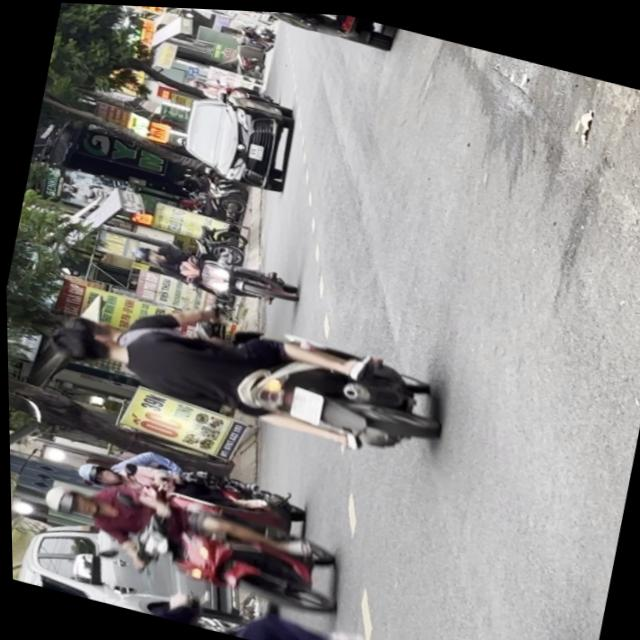helmet: (37, 482, 93, 520), (72, 457, 121, 489)
licenseplate: (40, 270, 450, 470), (24, 462, 352, 634), (64, 431, 309, 545)
motorcyclist: (47, 319, 125, 370), (58, 308, 121, 346)
nohelmet: (285, 382, 322, 421)
